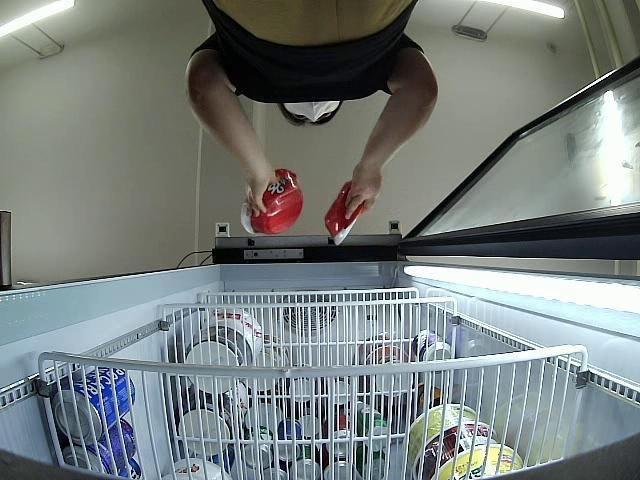10_wangTtukkeong: (238, 168, 302, 236), (326, 180, 366, 244)
